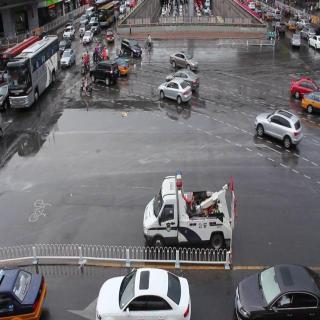BigCar: (7, 28, 60, 111)
Car: (152, 167, 231, 254), (96, 279, 194, 320), (232, 272, 318, 314), (255, 112, 301, 160), (114, 29, 150, 66), (162, 73, 192, 114), (90, 56, 114, 96), (168, 50, 200, 76), (293, 73, 318, 105), (63, 41, 75, 75), (290, 32, 303, 55), (82, 26, 94, 42)
